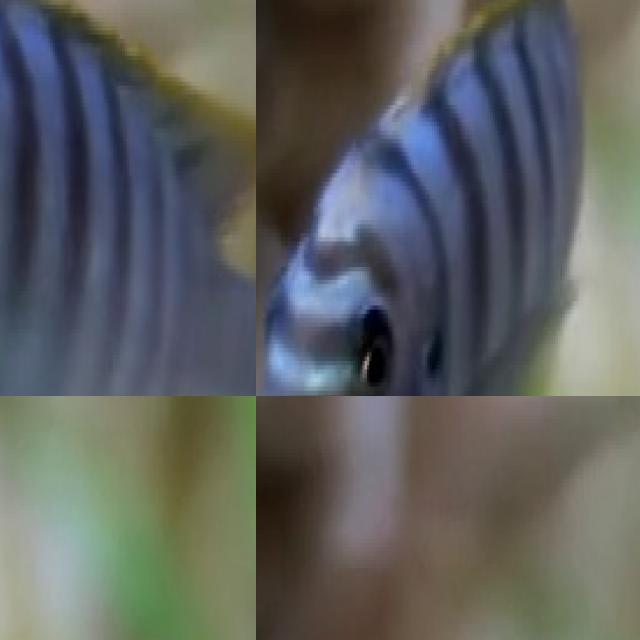fish: (0, 0, 256, 396)
